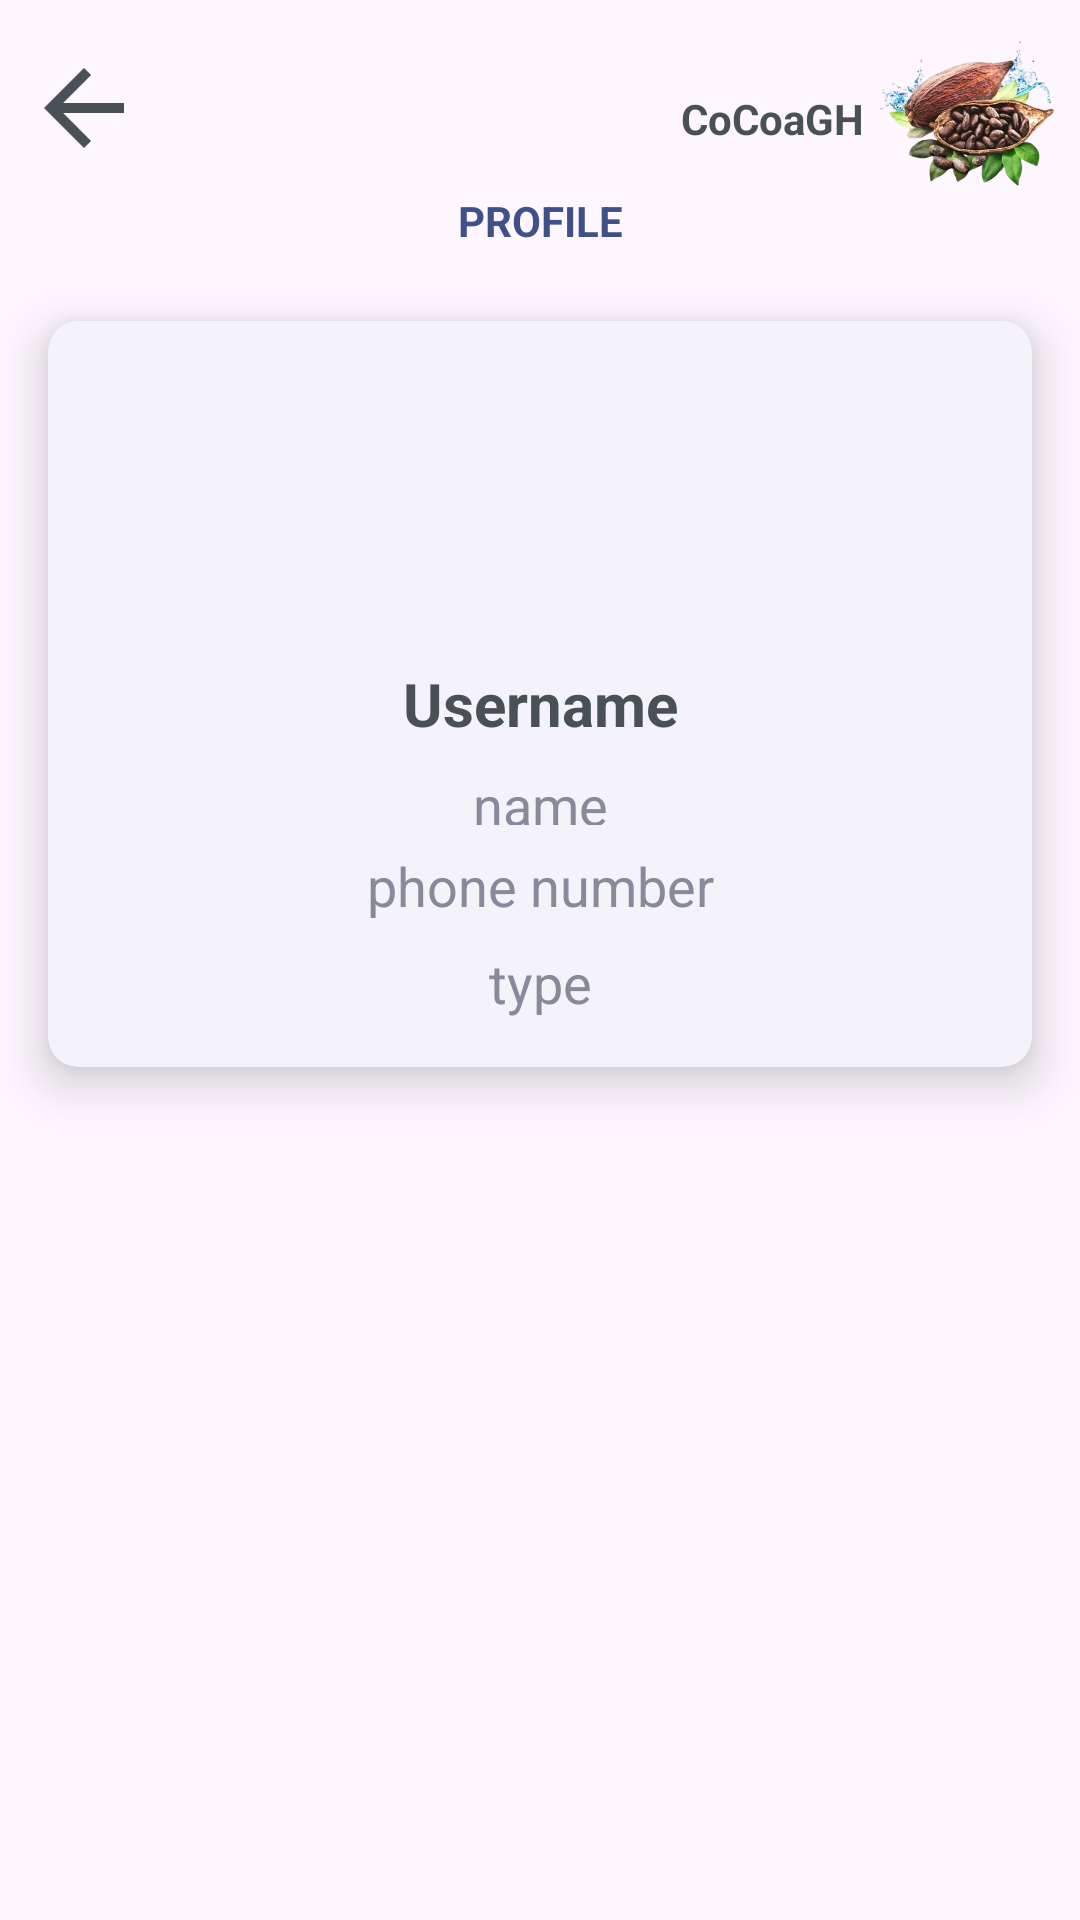

Named icons in this screenshot (1080 x 1920) and their centers, [x,y]:
arrow back: [84,108]
